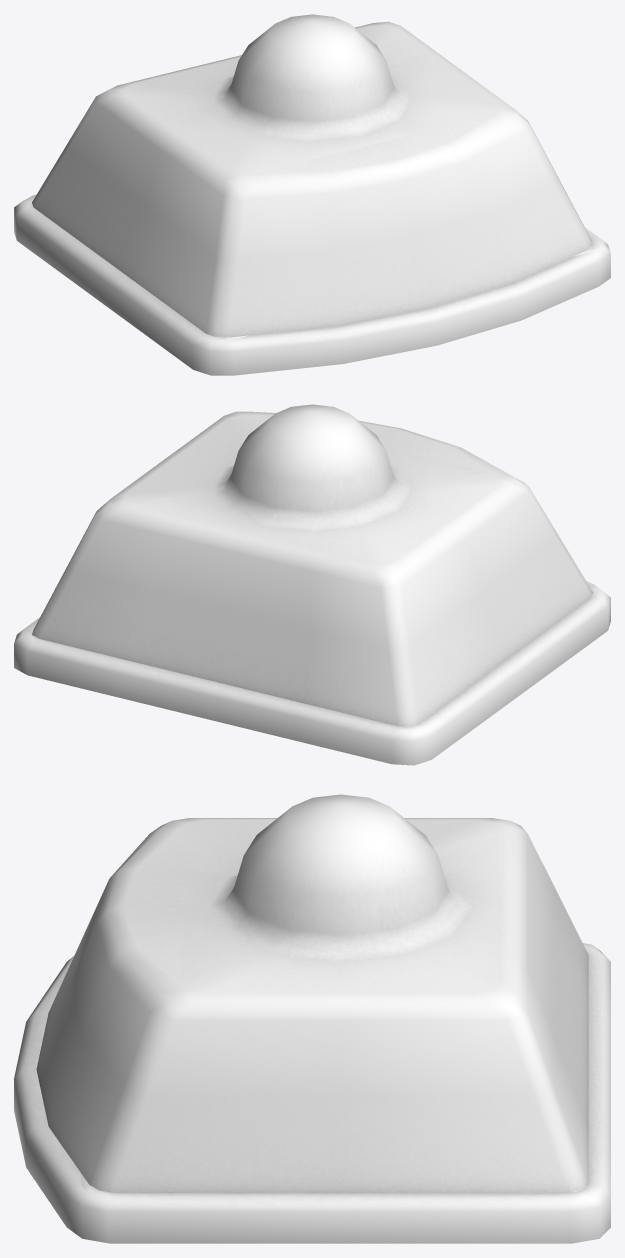
The model's file is taxiupfits.dae.
3 renders of one model, top to bottom at view 1: azimuth 30°, elevation 25°; view 2: azimuth 150°, elevation 25°; view 3: azimuth 270°, elevation 25°, orthographic. The views are drawn at different scales.
Parts seen in each view (by area): view 1: taxiupfits_general_small_01b, taxiupfits_general_small_01a; view 2: taxiupfits_general_small_01b, taxiupfits_general_small_01a; view 3: taxiupfits_general_small_01b, taxiupfits_general_small_01a.
Boxes of the visible parts, <box> form: taxiupfits_general_small_01b: <box>14,14,610,375</box>; taxiupfits_general_small_01a: <box>215,101,601,340</box>; taxiupfits_general_small_01b: <box>14,404,610,765</box>; taxiupfits_general_small_01a: <box>242,416,601,590</box>; taxiupfits_general_small_01b: <box>14,794,610,1243</box>; taxiupfits_general_small_01a: <box>81,823,272,1194</box>.
Size of the model in its own units: 0.28 by 0.2654 by 0.15.
1 material, 1 textured.
